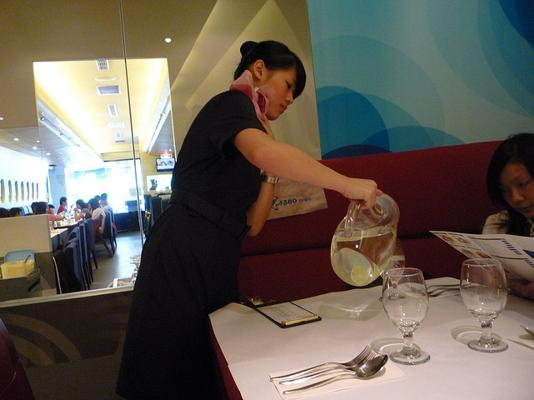person: (114, 41, 383, 400)
